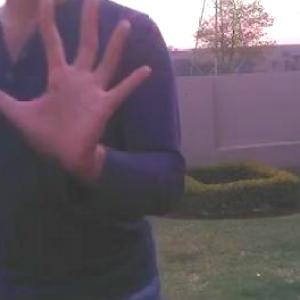follow_hand: (1, 0, 157, 176)
